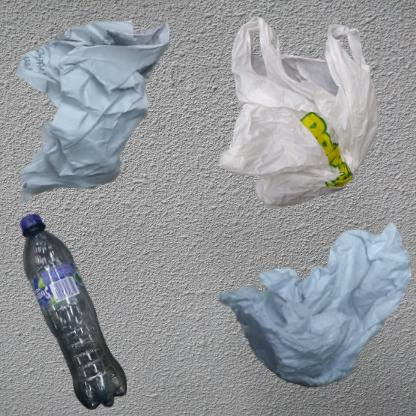bolsa: (213, 10, 395, 226)
botella: (10, 213, 138, 416)
papel: (213, 213, 416, 394), (10, 10, 171, 209)
